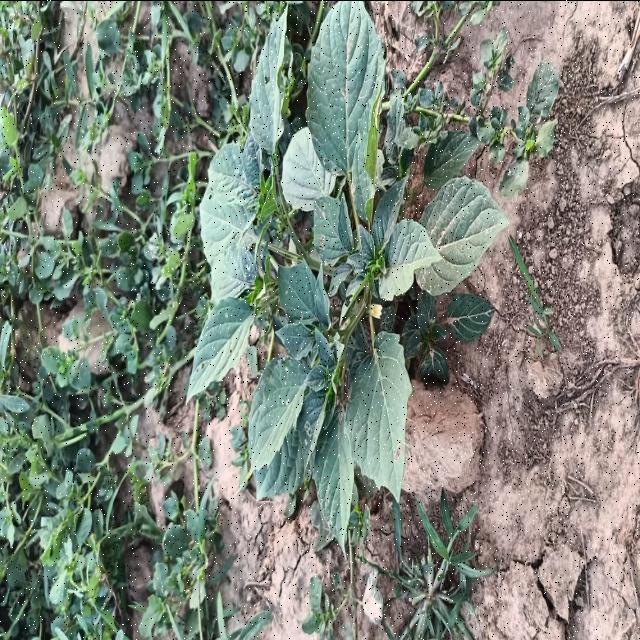weed: (188, 0, 509, 548)
